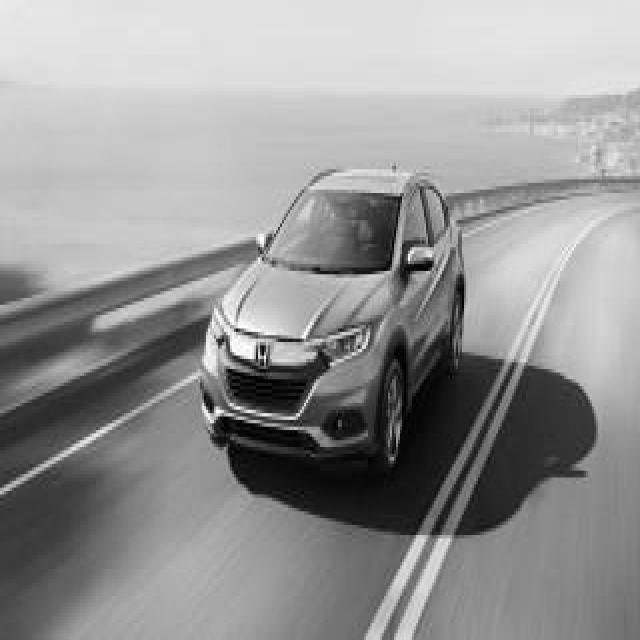Car: (201, 169, 463, 471)
